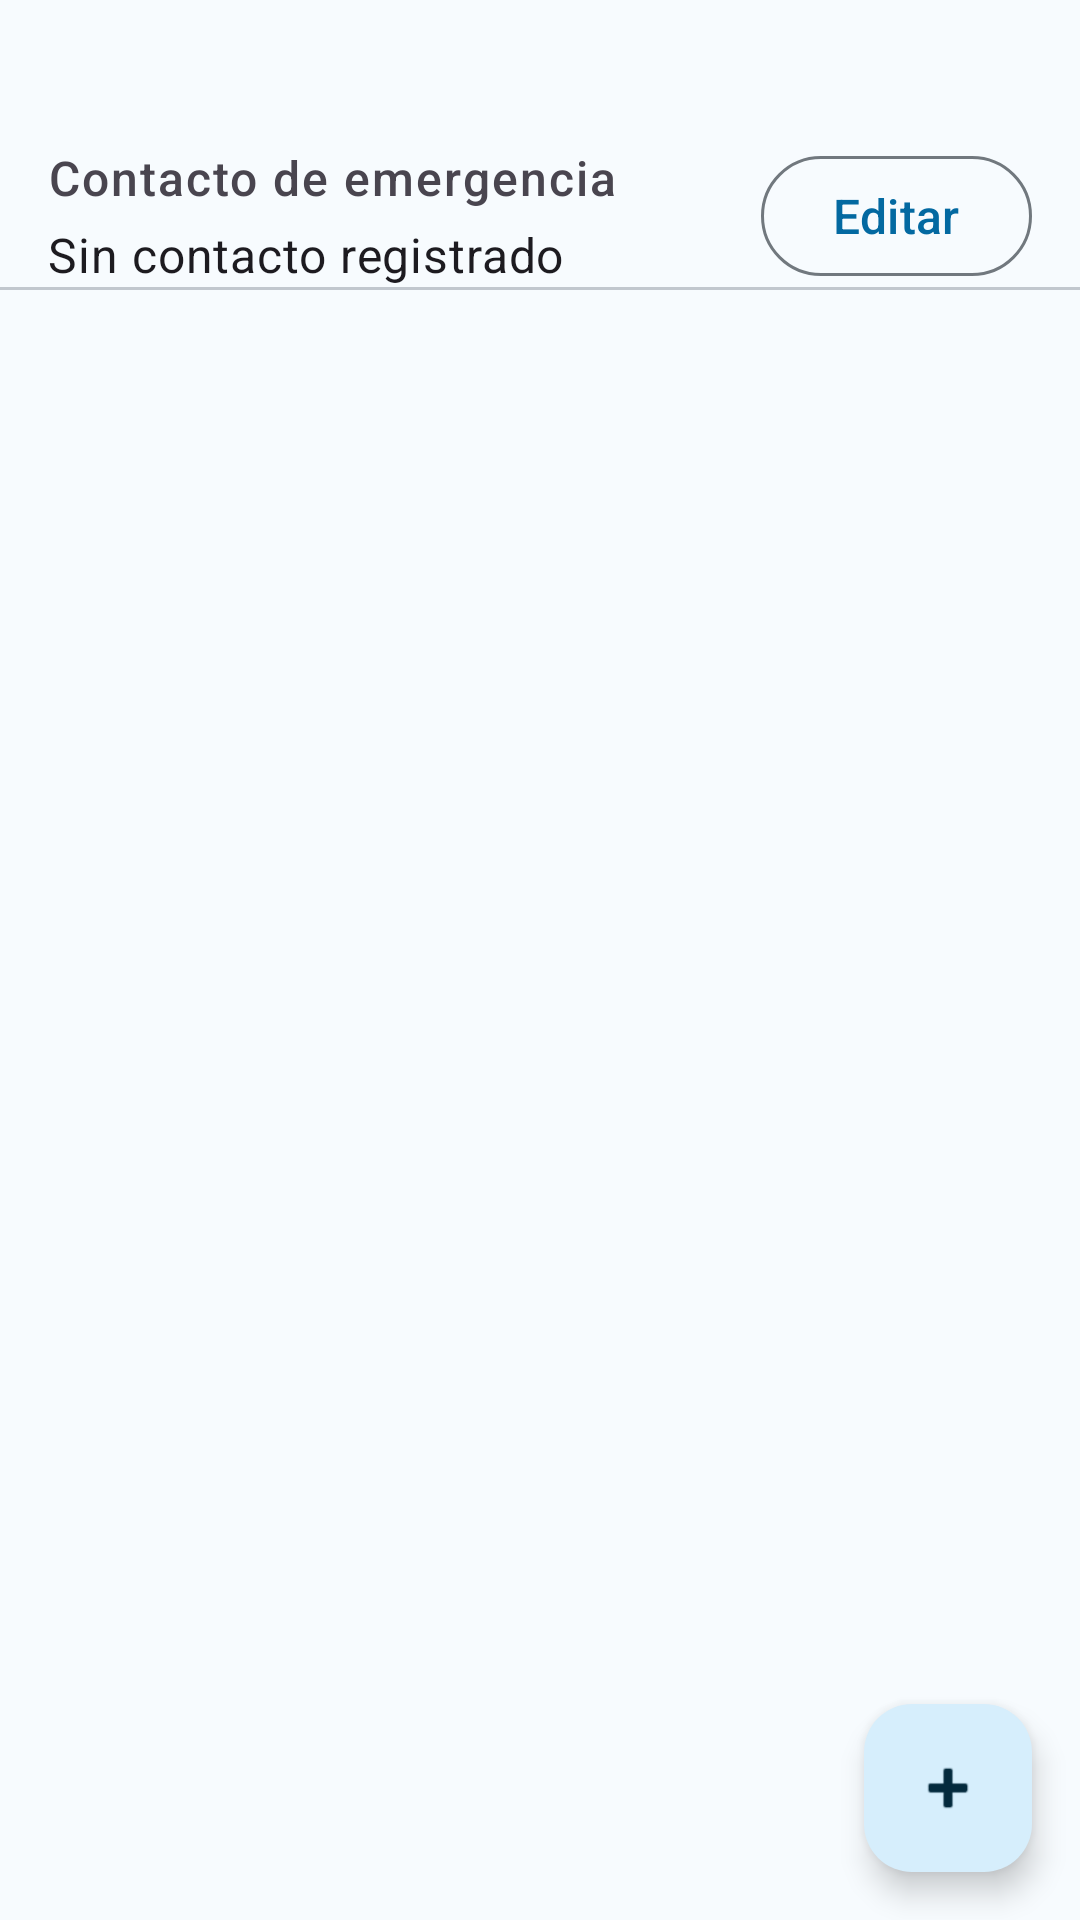

Icons on this 1080 x 1920 Android screen, each with its box as BBox(x1, y1, x2, y2):
Agregar medicamento: BBox(864, 1704, 1032, 1872)
